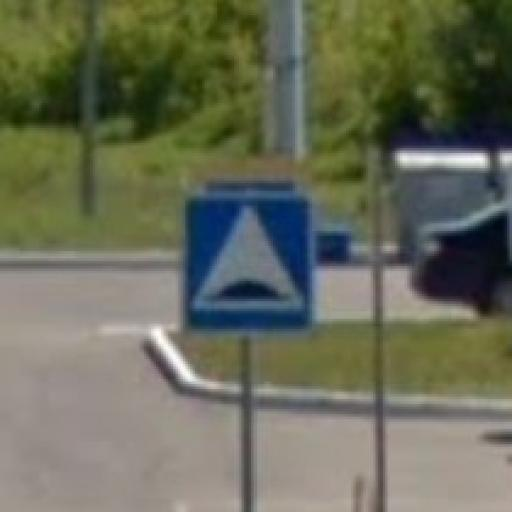traffic_sign: (177, 187, 321, 340)
